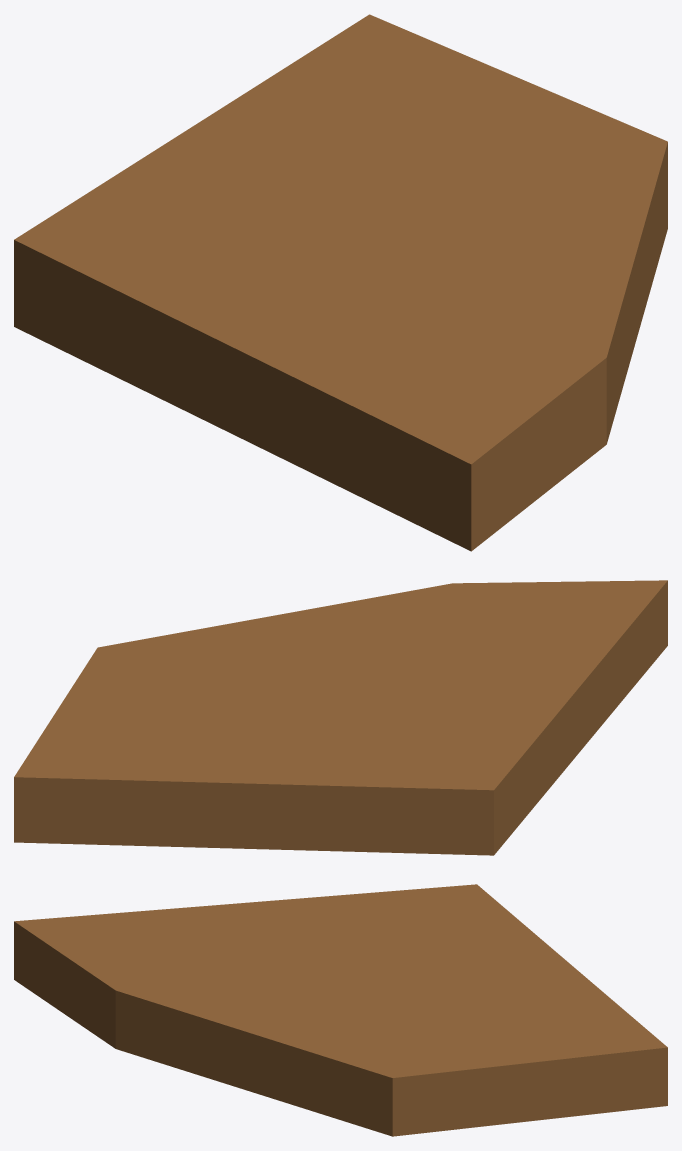
Rendered from x_proval_00_253_1_rmstrd.fbx.
3 renders of one model, top to bottom at view 1: azimuth 30°, elevation 25°; view 2: azimuth 150°, elevation 25°; view 3: azimuth 270°, elevation 25°, orthographic. The views are drawn at different scales.
Visible parts, largest first — view 1: x_proval_00_253_1_rmstrd1; view 2: x_proval_00_253_1_rmstrd1; view 3: x_proval_00_253_1_rmstrd1.
Boxes of the visible parts, <box> form: x_proval_00_253_1_rmstrd1: <box>14,14,667,551</box>; x_proval_00_253_1_rmstrd1: <box>14,580,667,855</box>; x_proval_00_253_1_rmstrd1: <box>14,884,667,1136</box>.
Size of the model in its own units: 1.42 by 0.2 by 2.03.
